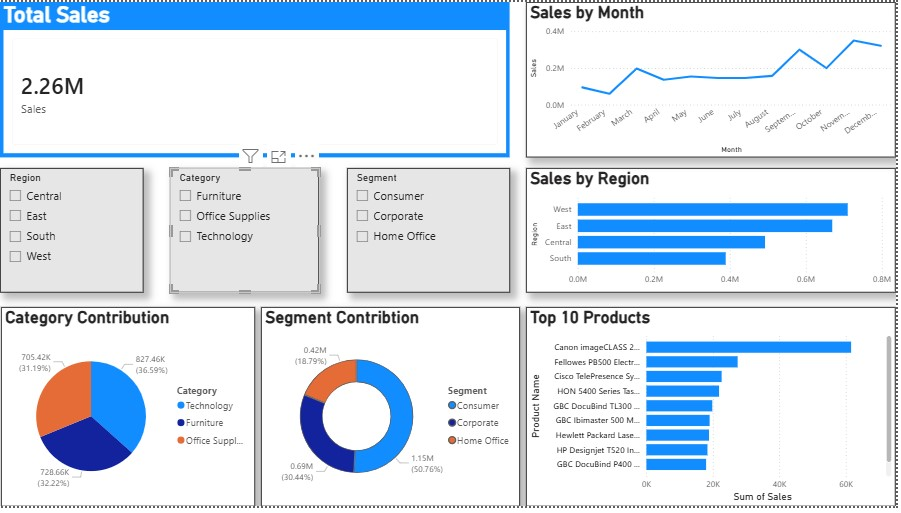

The dashboard page shown, as its layout file describes it:
{"tool":"powerbi","page":{"name":"Page 1","canvas":[1280,720],"ordinal":0},"visuals":[{"type":"cardVisual","title":"Total Sales","fields":{"Data":["Sum(train - CLean.Sales)"]},"box":[0,0,728.3,221.7],"z":0},{"type":"clusteredBarChart","fields":{"Category":["train - CLean.Region"],"Y":["Sum(train - CLean.Sales)"]},"box":[751.7,236.7,528.3,178.3],"z":1000},{"type":"pieChart","title":"Category Contribution","fields":{"Category":["train - CLean.Category"],"Y":["Sum(train - CLean.Sales)"]},"box":[1.7,435,363.3,285],"z":2000},{"type":"lineChart","fields":{"Category":["train - CLean.Order Date.Variation.Date Hierarchy.Year","train - CLean.Order Date.Variation.Date Hierarchy.Quarter","train - CLean.Order Date.Variation.Date Hierarchy.Month","train - CLean.Order Date.Variation.Date Hierarchy.Day"],"Y":["Sum(train - CLean.Sales)"]},"box":[751.7,0,528.3,221.7],"z":3000},{"type":"donutChart","title":"Segment Contribtion","fields":{"Category":["train - CLean.Segment"],"Y":["Sum(train - CLean.Sales)"]},"box":[373.3,435,370,285],"z":4000},{"type":"barChart","title":"Top 10 Products","fields":{"Category":["train - CLean.Product Name"],"Y":["Sum(train - CLean.Sales)"]},"box":[751.7,435,528.3,285],"z":5000},{"type":"slicer","fields":{"Values":["train - CLean.Region"]},"box":[0,236.7,205,178.3],"z":6000},{"type":"slicer","fields":{"Values":["train - CLean.Category"]},"box":[243.3,236.7,213.3,178.3],"z":7000},{"type":"slicer","fields":{"Values":["train - CLean.Segment"]},"box":[495,236.7,233.3,178.3],"z":8000}]}

Visuals, with their boxes in screenshot pixels (x1, y1, x2, y2), scaled from the page's 1280x720 canvas onto the 901x513 screenshot:
"Total Sales" cardVisual: (left=0, top=0, right=513, bottom=158)
clusteredBarChart - train - CLean.Region x Sum(train - CLean.Sales): (left=529, top=169, right=900, bottom=296)
"Category Contribution" pieChart: (left=1, top=310, right=257, bottom=512)
lineChart - train - CLean.Order Date.Variation.Date Hierarchy.Year x train - CLean.Order Date.Variation.Date Hierarchy.Quarter: (left=529, top=0, right=900, bottom=158)
"Segment Contribtion" donutChart: (left=263, top=310, right=523, bottom=512)
"Top 10 Products" barChart: (left=529, top=310, right=900, bottom=512)
slicer - train - CLean.Region: (left=0, top=169, right=144, bottom=296)
slicer - train - CLean.Category: (left=171, top=169, right=321, bottom=296)
slicer - train - CLean.Segment: (left=348, top=169, right=513, bottom=296)
